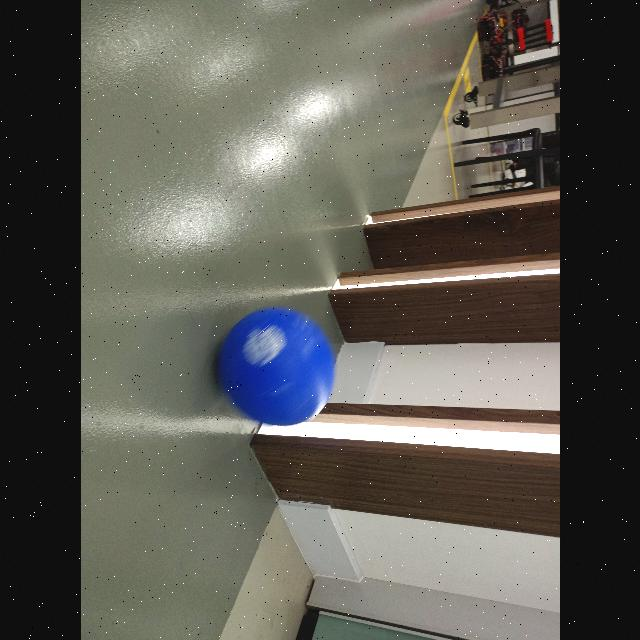B: (218, 306, 336, 426)
